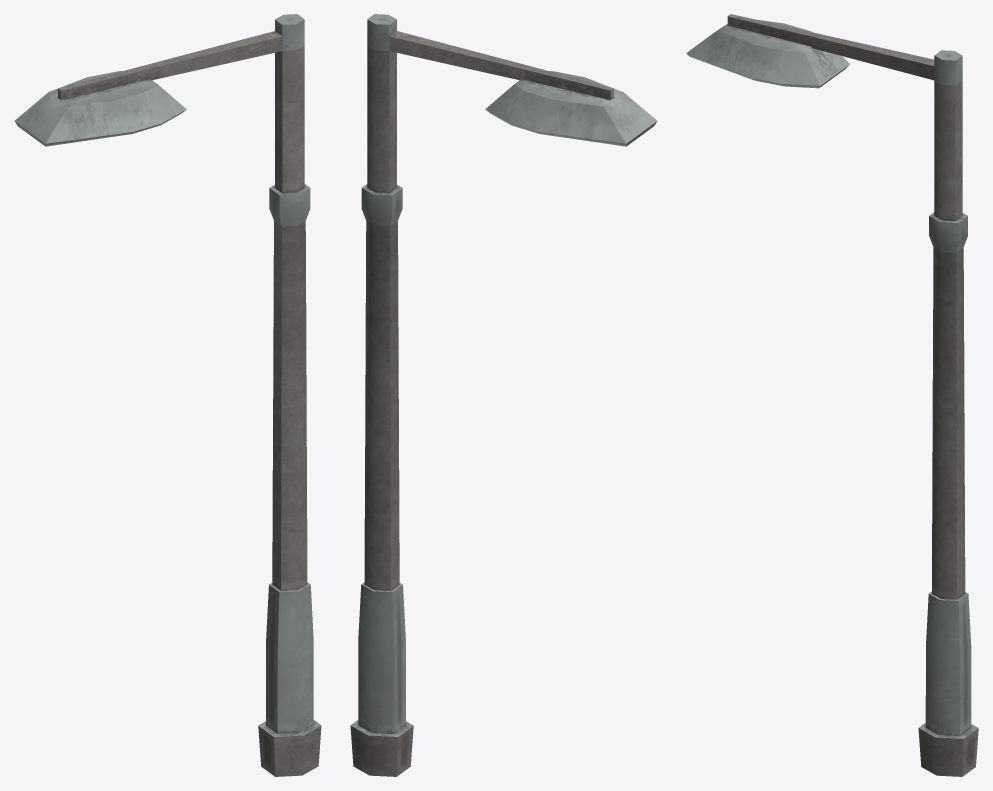
File: Props_Lamp_2.1.fbx
The picture shows the model from 3 angles, left to right: view 1: azimuth 30°, elevation 25°; view 2: azimuth 150°, elevation 25°; view 3: azimuth 330°, elevation 25°; orthographic projection. The views are drawn at different scales.
Parts seen in each view (by area): view 1: Props_Lamp_2.1; view 2: Props_Lamp_2.1; view 3: Props_Lamp_2.1.
Part boxes in pixels (left/top/right/bottom): Props_Lamp_2.1: left=15, top=14, right=321, bottom=776; Props_Lamp_2.1: left=350, top=14, right=656, bottom=776; Props_Lamp_2.1: left=686, top=14, right=978, bottom=776.
Size of the model in its own units: 294 by 741 by 91.59.
